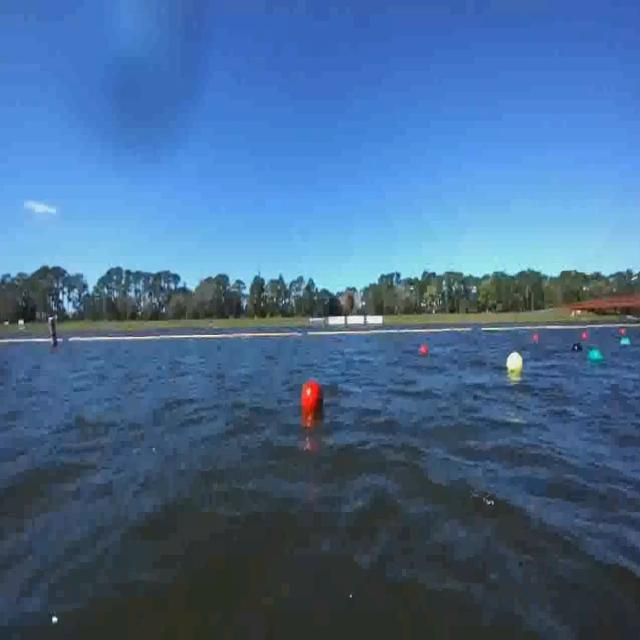black-buoy: (574, 345, 583, 353)
green-buoy: (586, 350, 601, 366)
red-buoy: (300, 379, 320, 411), (420, 345, 430, 357)
yellow-buoy: (506, 352, 522, 374)
